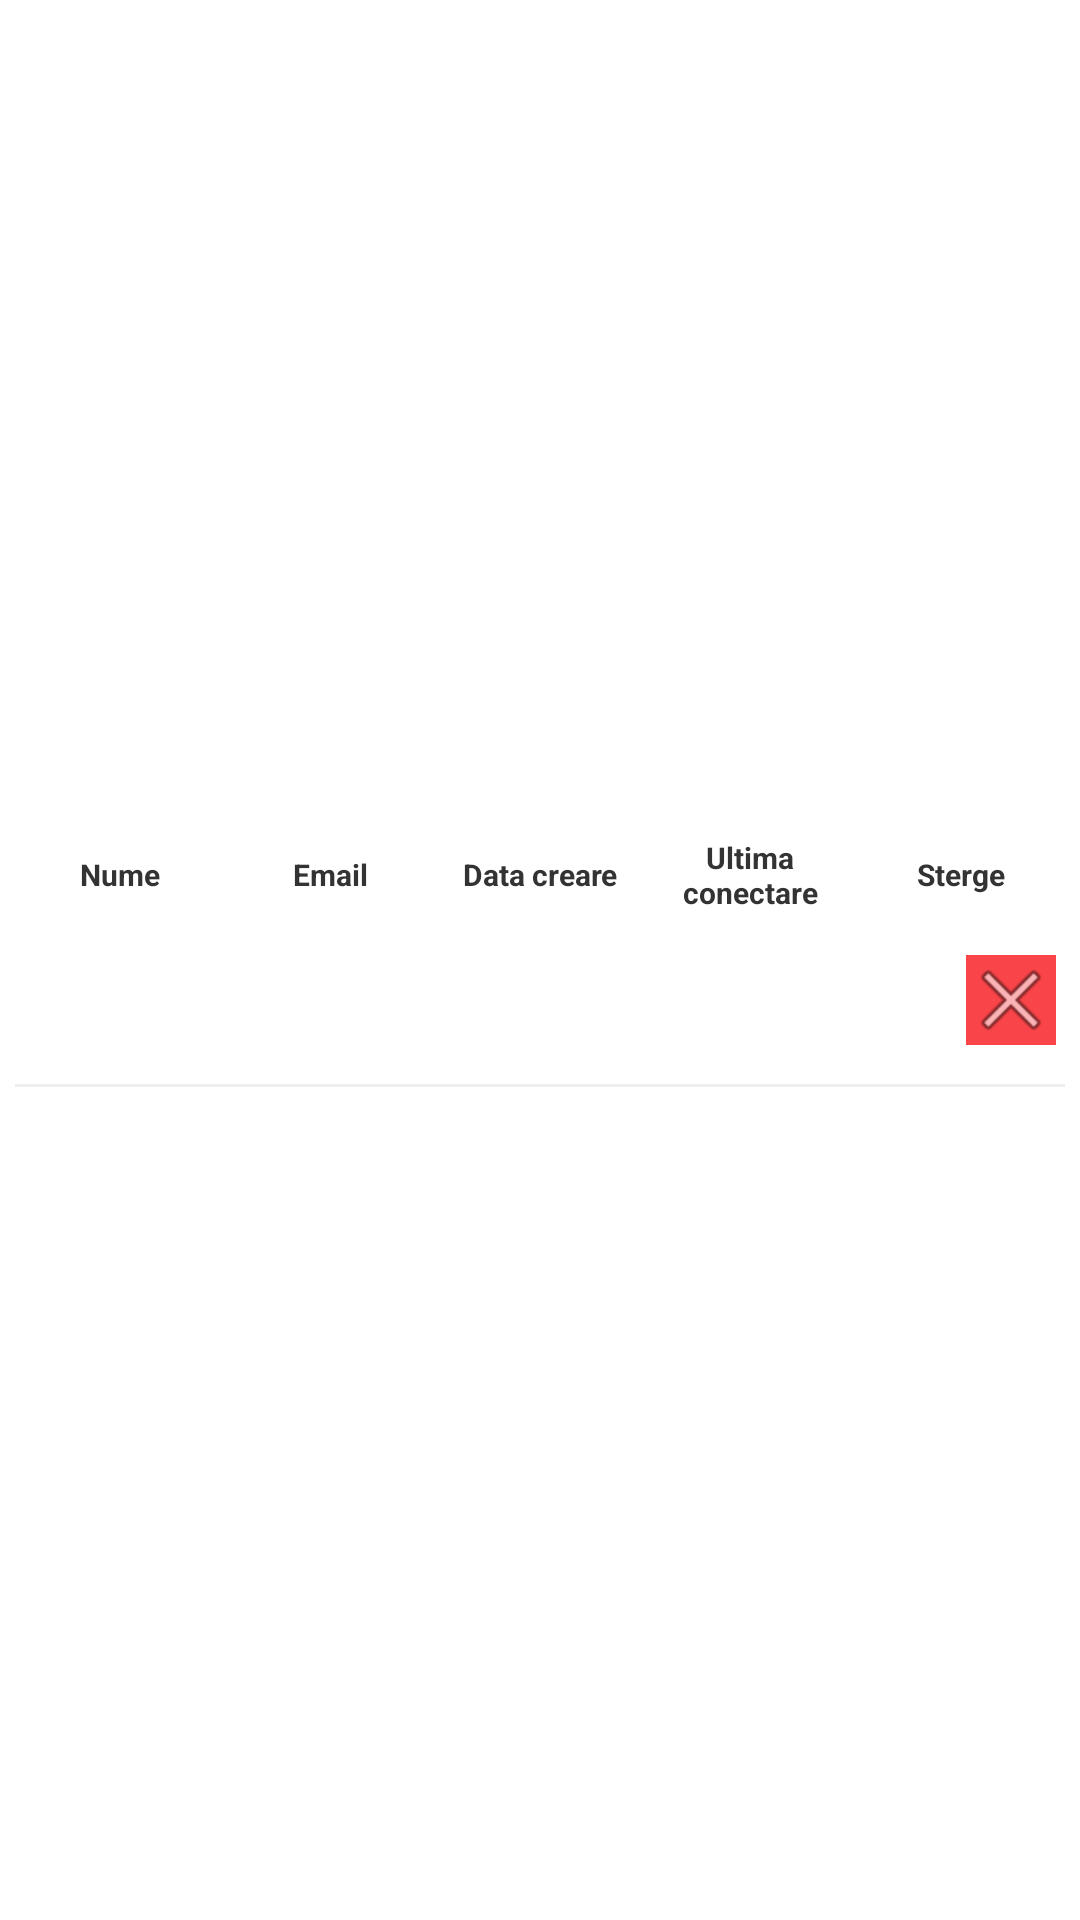

Locate icon controls on the screen. Image size 1080 x 1920, boxes as (x1, y1, x2, y2).
close clear cancel: (966, 955, 1056, 1045)
